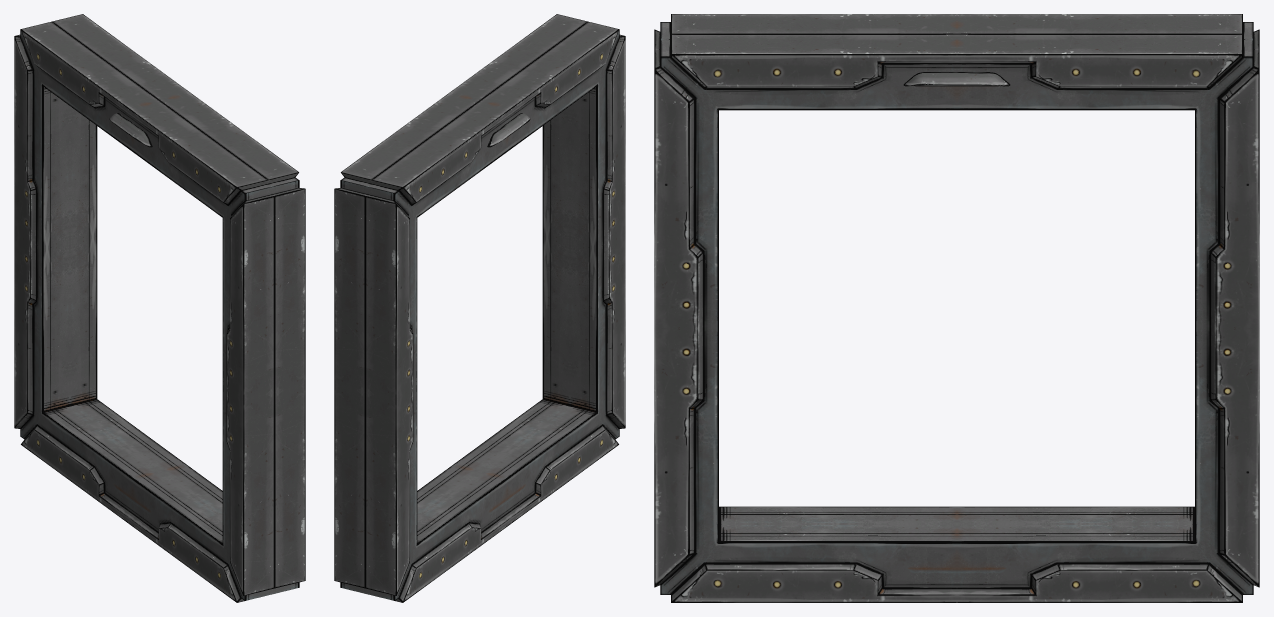
The model's file is SM_Atlas_IronBear_Door2_Frame.obj.
3 renders of one model, left to right at view 1: azimuth 30°, elevation 25°; view 2: azimuth 150°, elevation 25°; view 3: azimuth 270°, elevation 25°, orthographic. The views are drawn at different scales.
Visible parts, largest first — view 1: SM_Atlas_IronBear_Door2_Frame; view 2: SM_Atlas_IronBear_Door2_Frame; view 3: SM_Atlas_IronBear_Door2_Frame.
Boxes of the visible parts, bbox=[...] form: SM_Atlas_IronBear_Door2_Frame: bbox=[14, 14, 305, 602]; SM_Atlas_IronBear_Door2_Frame: bbox=[334, 14, 625, 602]; SM_Atlas_IronBear_Door2_Frame: bbox=[654, 14, 1259, 602].
Size of the model in its own units: 93.64 by 509 by 509.
1 material, 1 textured.
